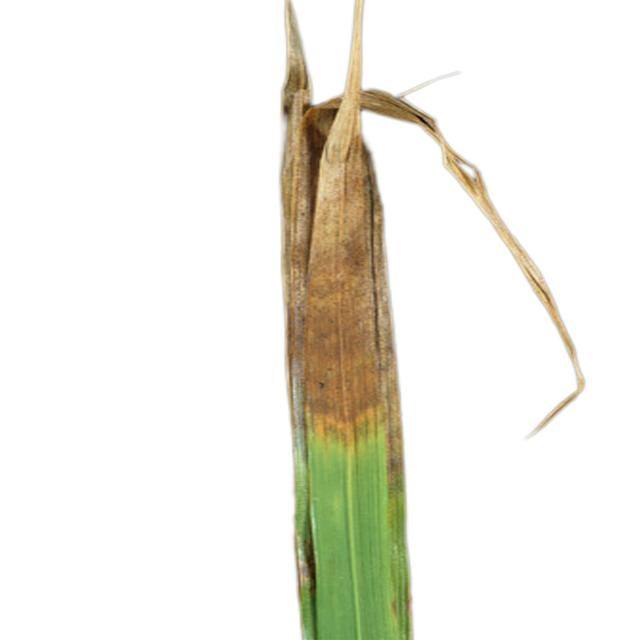Leaf scald: (212, 0, 606, 640)
